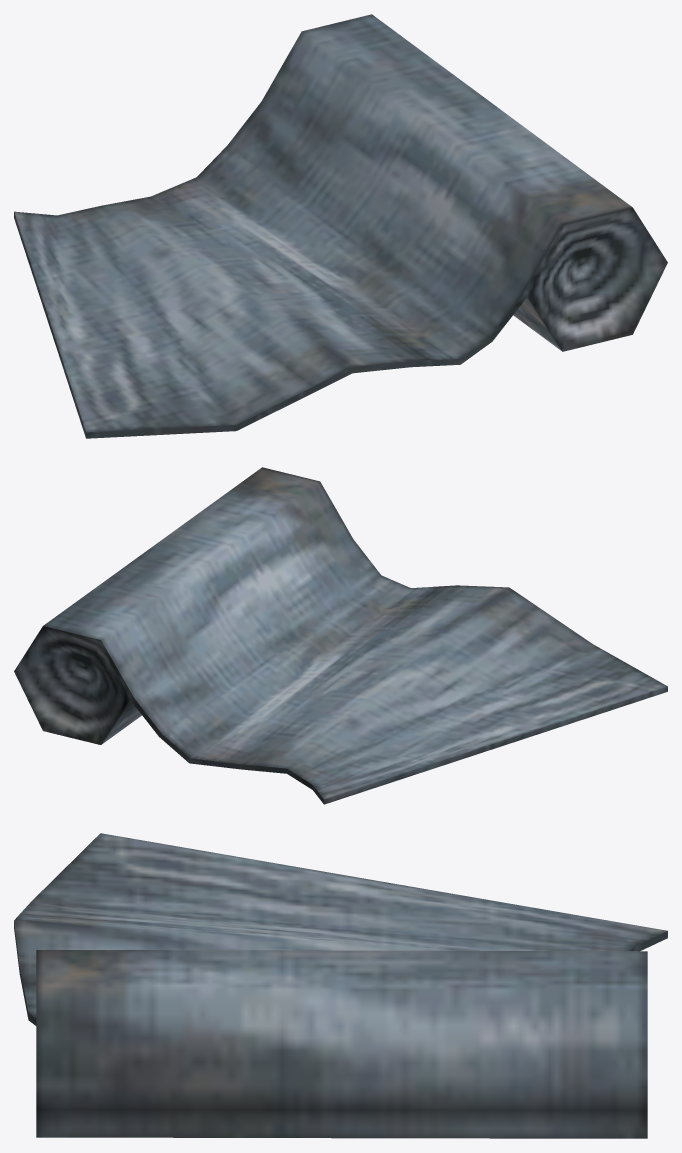
Rendered from eqp_comp_synthetic_cloth.fbx.
The picture shows the model from 3 angles, top to bottom: view 1: azimuth 30°, elevation 25°; view 2: azimuth 150°, elevation 25°; view 3: azimuth 270°, elevation 25°; orthographic projection. The views are drawn at different scales.
Parts seen in each view (by area): view 1: mesh_node; view 2: mesh_node; view 3: mesh_node.
Part boxes in pixels (<box>): mesh_node: <box>14,14,667,438</box>; mesh_node: <box>14,467,667,804</box>; mesh_node: <box>14,833,667,1138</box>.
Size of the model in its own units: 0.3863 by 0.0844 by 0.3385.
1 material, 1 textured.
